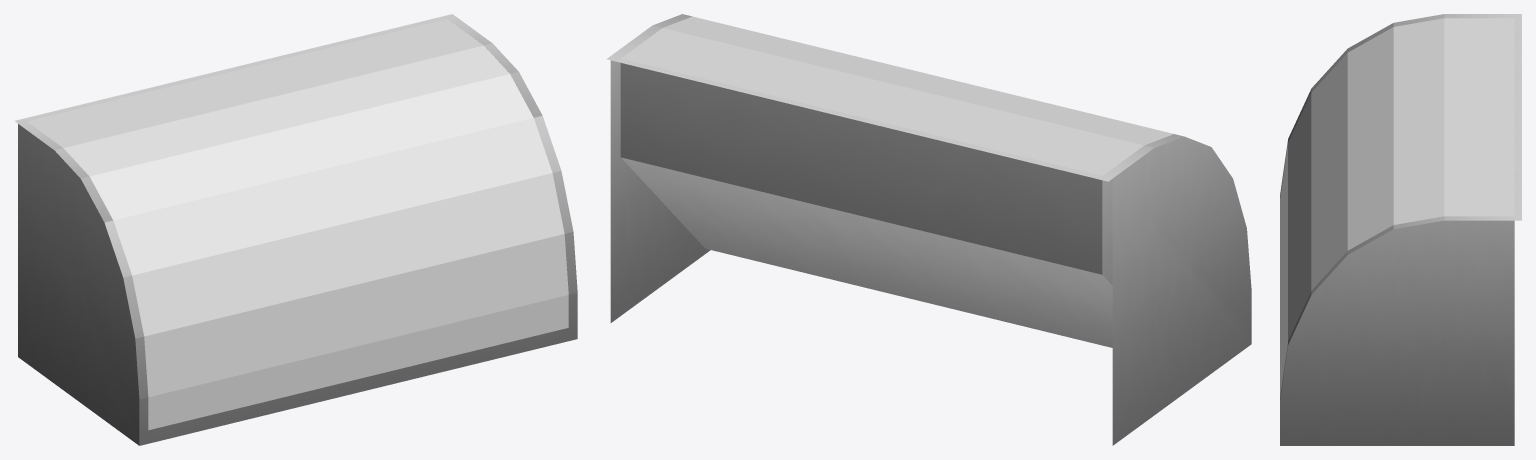
The model's file is CheeseShalf.fbx.
The picture shows the model from 3 angles, left to right: view 1: azimuth 30°, elevation 25°; view 2: azimuth 150°, elevation 25°; view 3: azimuth 270°, elevation 25°; orthographic projection. The views are drawn at different scales.
Visible parts, largest first — view 1: Glass, Shalf; view 2: Shalf, Glass; view 3: Shalf, Glass.
Part boxes in pixels (left/top/right/bottom): Glass: left=27, top=19, right=568, bottom=430; Shalf: left=15, top=14, right=577, bottom=445; Shalf: left=606, top=14, right=1251, bottom=445; Glass: left=621, top=16, right=1173, bottom=175; Shalf: left=1280, top=14, right=1521, bottom=445; Glass: left=1280, top=18, right=1514, bottom=396.
Size of the model in its own units: 417 by 212 by 206.
